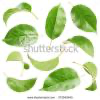Apple leaf: (38, 67, 82, 93), (2, 23, 39, 49), (70, 3, 99, 34), (26, 50, 64, 73), (44, 1, 66, 40), (3, 74, 38, 95), (4, 49, 33, 74), (81, 59, 99, 91)
